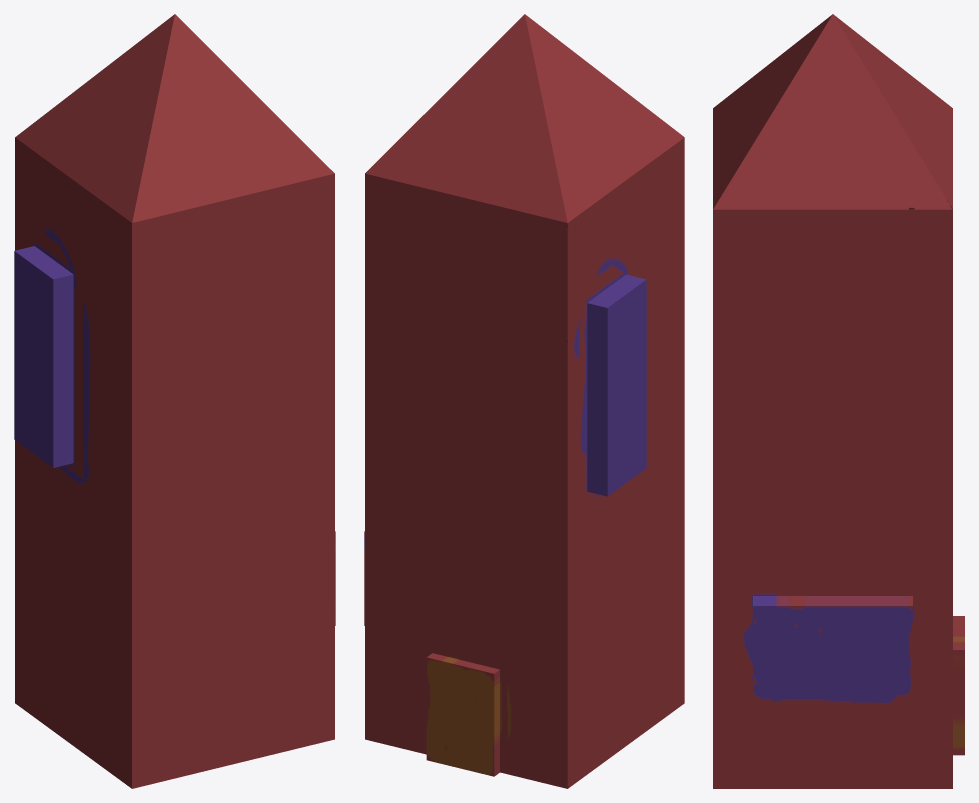
The model's file is building1.glb.
3 renders of one model, left to right at view 1: azimuth 30°, elevation 25°; view 2: azimuth 150°, elevation 25°; view 3: azimuth 270°, elevation 25°, orthographic. The views are drawn at different scales.
Visible parts, largest first — view 1: Cube; view 2: Cube; view 3: Cube.
Boxes of the visible parts, box(x1,y1,x2,y2) form: Cube: box(14, 14, 335, 788); Cube: box(364, 14, 684, 788); Cube: box(713, 14, 964, 788).
Bounding box in the file's own units: 36 × 100 × 31.5.
1 material, 1 textured.
